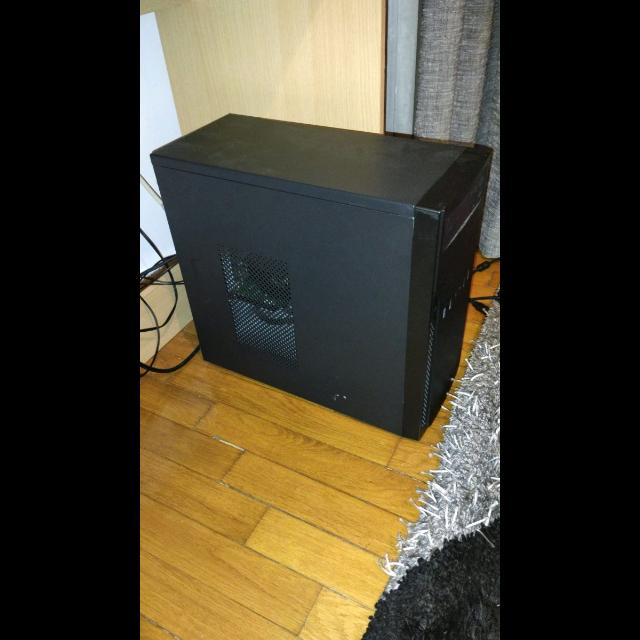Desktop-PC: (144, 110, 484, 443)
